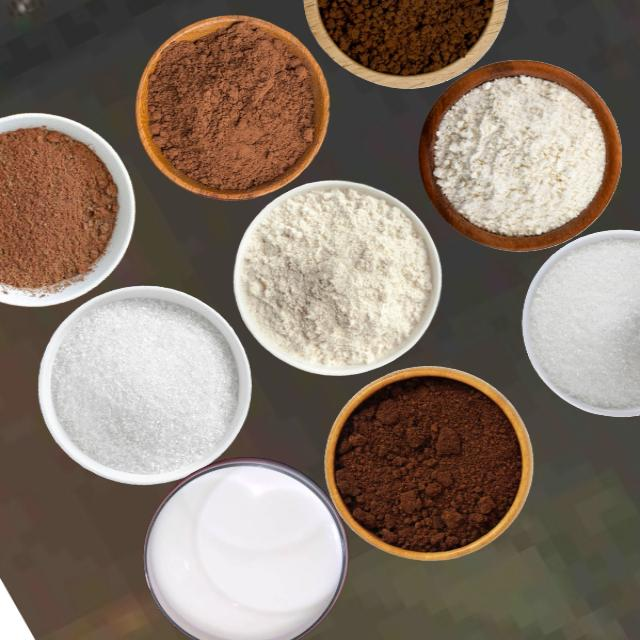Cocoa: (140, 16, 321, 197), (0, 124, 118, 294)
Coffee: (333, 375, 523, 553), (317, 0, 493, 76)
Flour: (239, 186, 431, 368), (431, 74, 606, 236)
Sugar: (50, 297, 237, 475), (528, 238, 639, 410)
